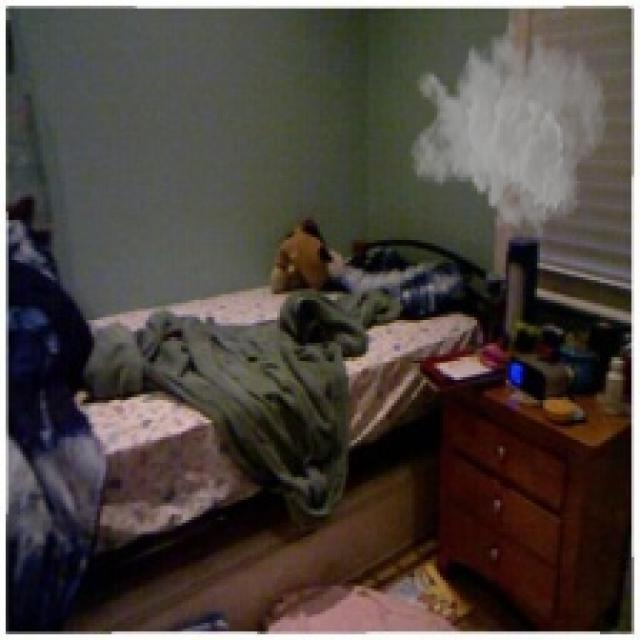Smoke: (408, 11, 608, 240)
